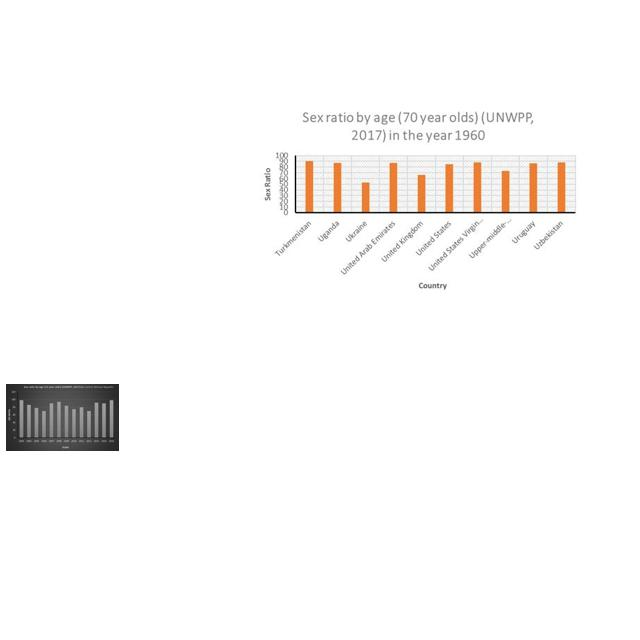Graph: (255, 106, 580, 293), (6, 384, 119, 451)
